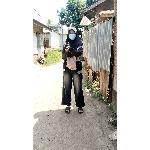Senapan: (58, 39, 77, 52)
